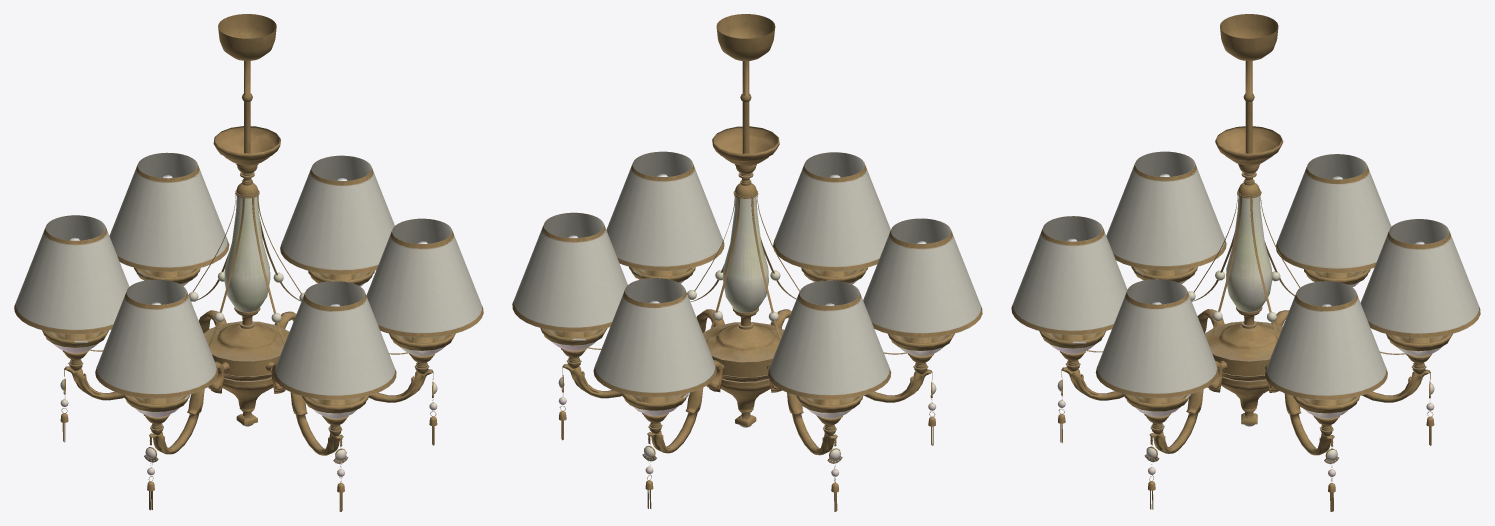
File: Chandelier_01.glb
The picture shows the model from 3 angles, left to right: view 1: azimuth 30°, elevation 25°; view 2: azimuth 150°, elevation 25°; view 3: azimuth 270°, elevation 25°; orthographic projection.
Parts seen in each view (by area): view 1: Chandelier_01; view 2: Chandelier_01; view 3: Chandelier_01.
Part boxes in pixels (<box>): Chandelier_01: <box>14,14,483,511</box>; Chandelier_01: <box>512,14,982,511</box>; Chandelier_01: <box>1011,14,1480,511</box>.
Size of the model in its own units: 0.7465 by 0.7982 by 0.8155.
2 materials, 1 textured.
